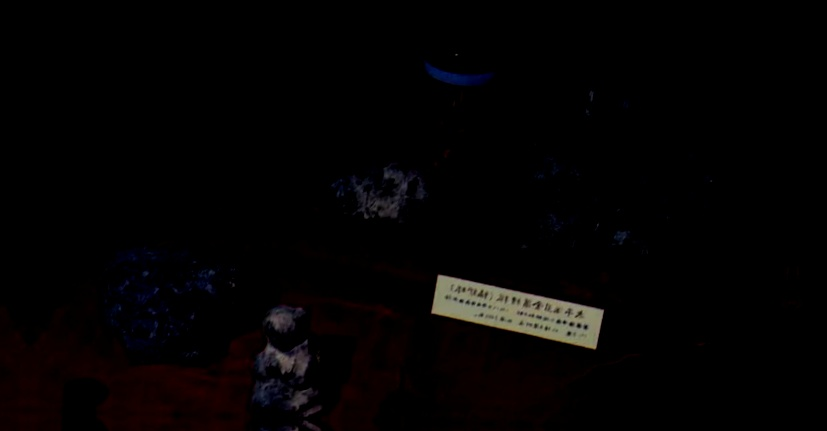halobolite: (255, 297, 338, 431), (328, 151, 443, 226)
